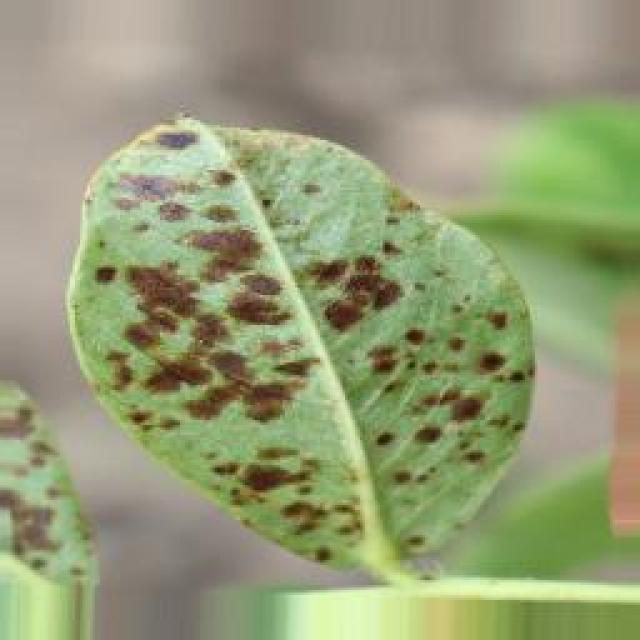Whitefly: (26, 92, 520, 543)
